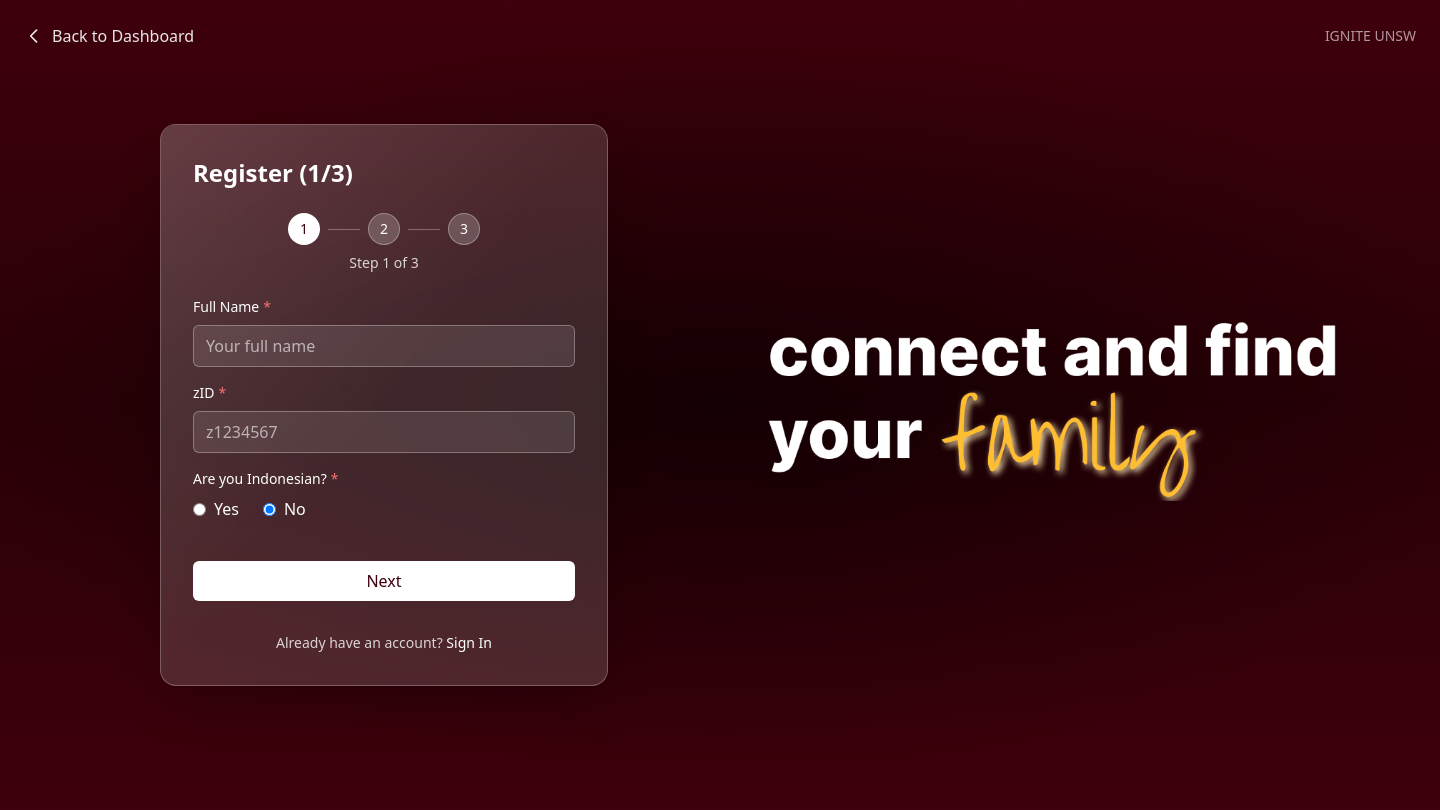
Test: Register Page › validates zID format in step 1
Type "invalid-zid" into the field labelled "zID*" at (384, 432), box left=193, top=411, right=575, bottom=453
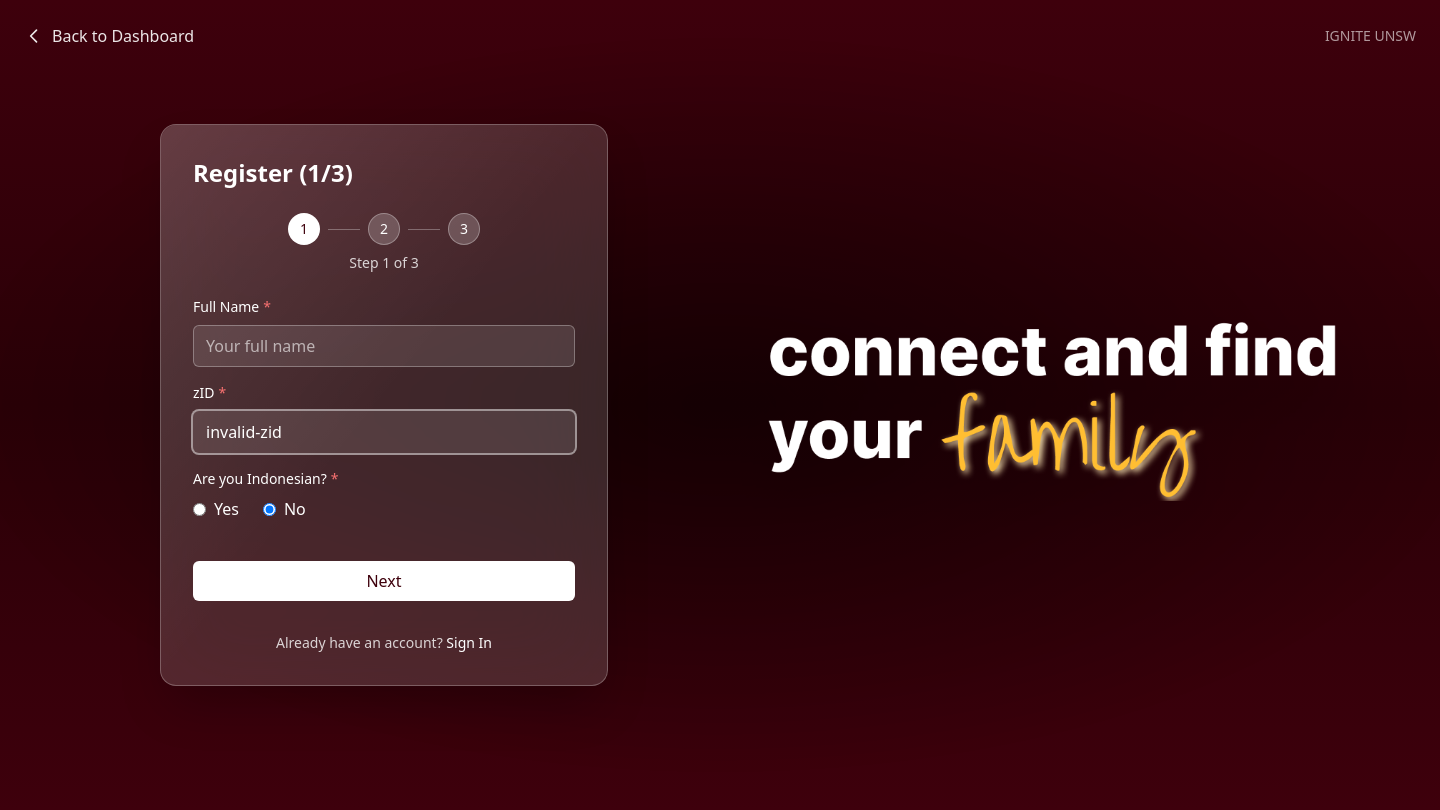
Click the button "Next" at (384, 581), box left=193, top=561, right=575, bottom=601
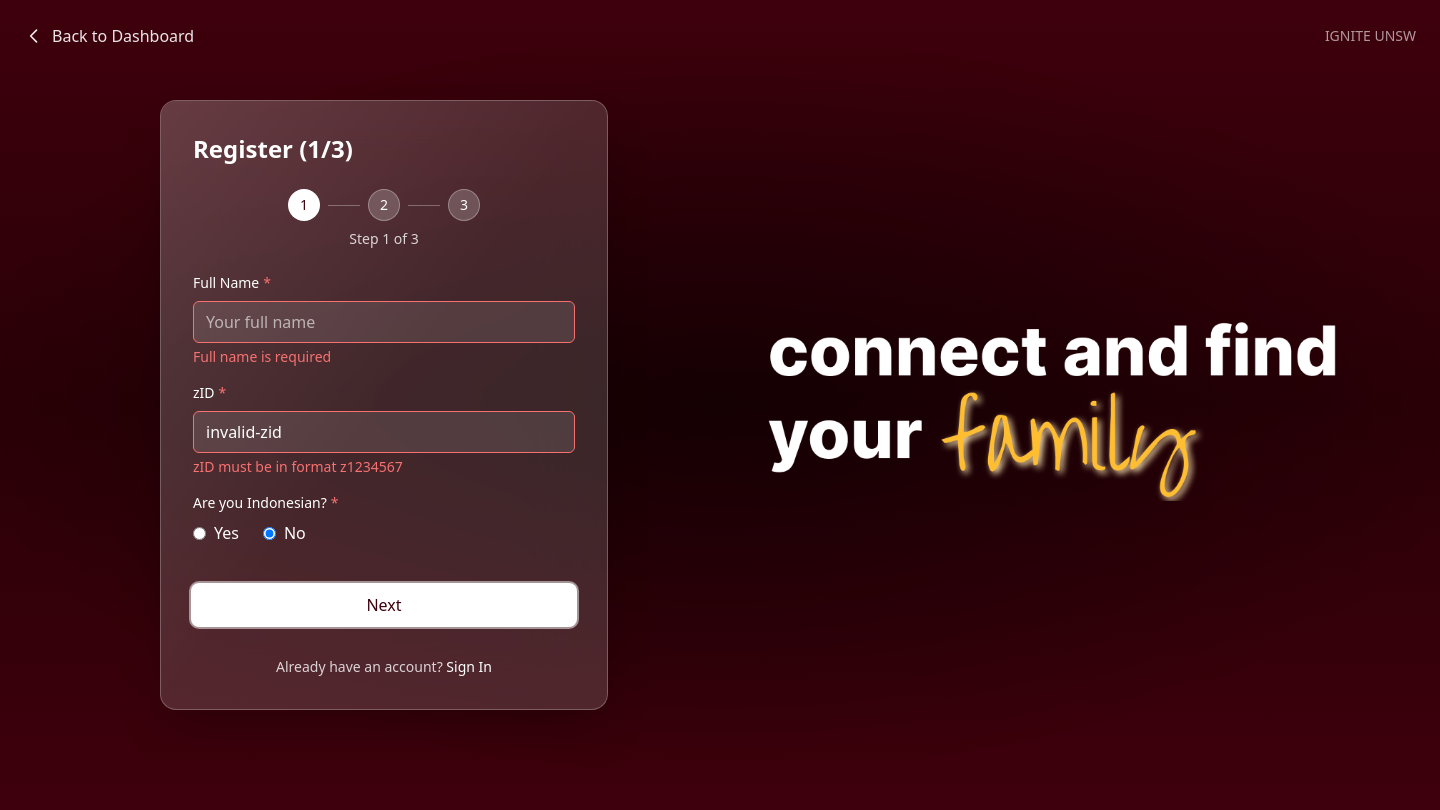
Now the text "zID must be in format z1234567" is shown, box left=193, top=457, right=403, bottom=476
